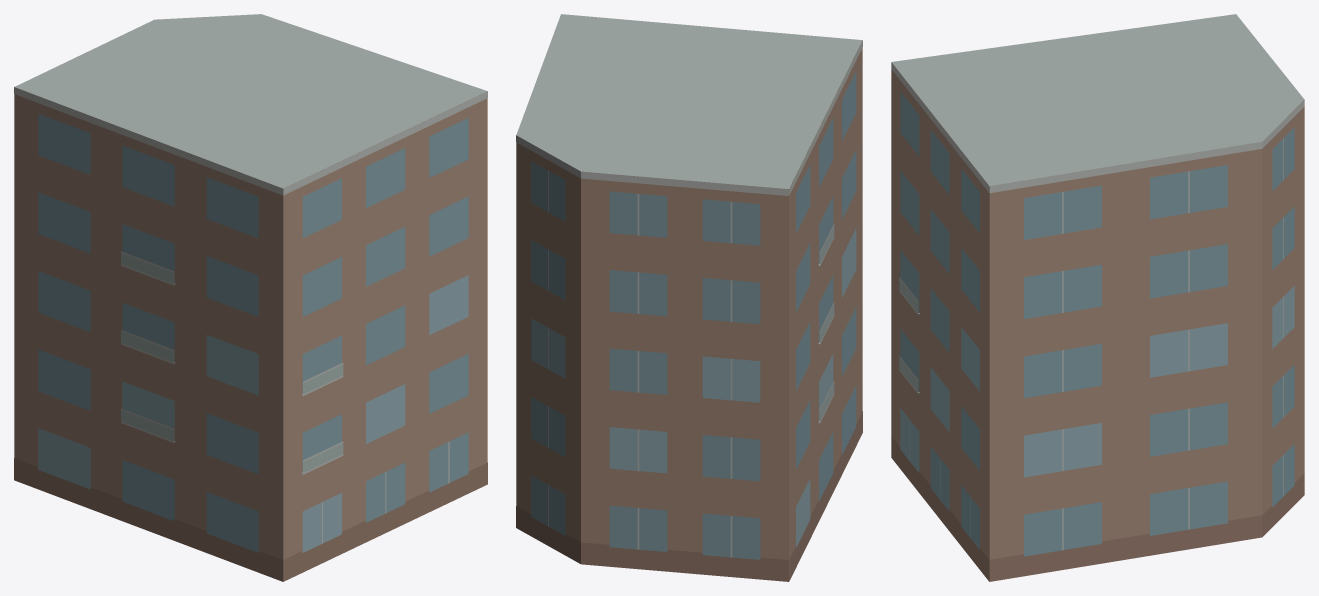
The model's file is survey-upis-32851974.glb.
The picture shows the model from 3 angles, left to right: view 1: azimuth 30°, elevation 25°; view 2: azimuth 150°, elevation 25°; view 3: azimuth 270°, elevation 25°; orthographic projection.
Parts seen in each view (by area): view 1: survey-upis-32851974.tmp; view 2: survey-upis-32851974.tmp; view 3: survey-upis-32851974.tmp.
Boxes of the visible parts, x1,y1,x2,y2 form: survey-upis-32851974.tmp: [14, 14, 487, 581]; survey-upis-32851974.tmp: [516, 14, 862, 581]; survey-upis-32851974.tmp: [891, 14, 1304, 581].
Bounding box in the file's own units: 12.8 × 13.7 × 12.98.
